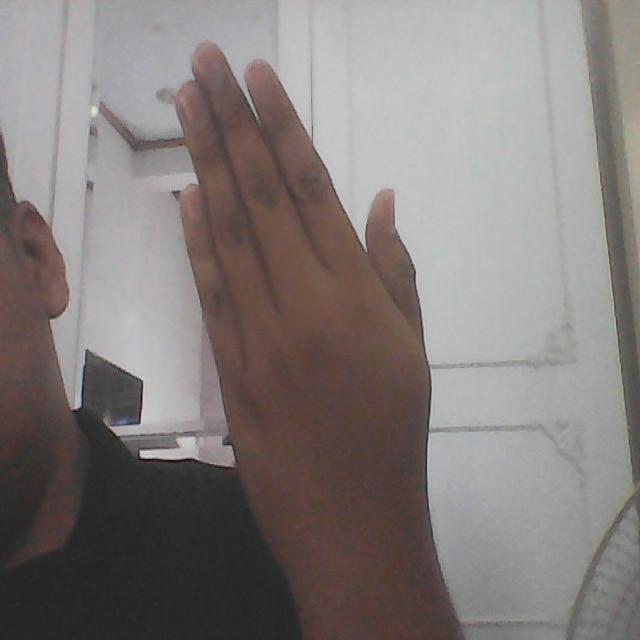hand: (157, 42, 437, 640)
